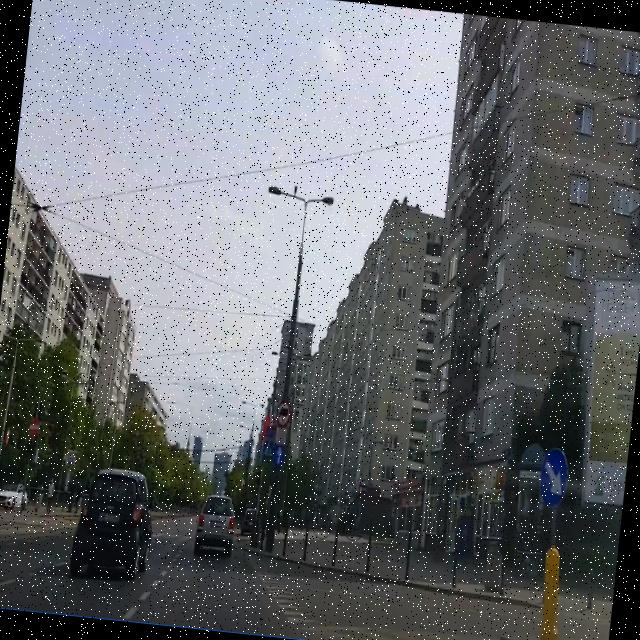Przejscie dla pieszych: (261, 439, 274, 459)
Zakaz wjazdu: (28, 414, 42, 438)
